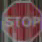Stop: (1, 3, 41, 38)
